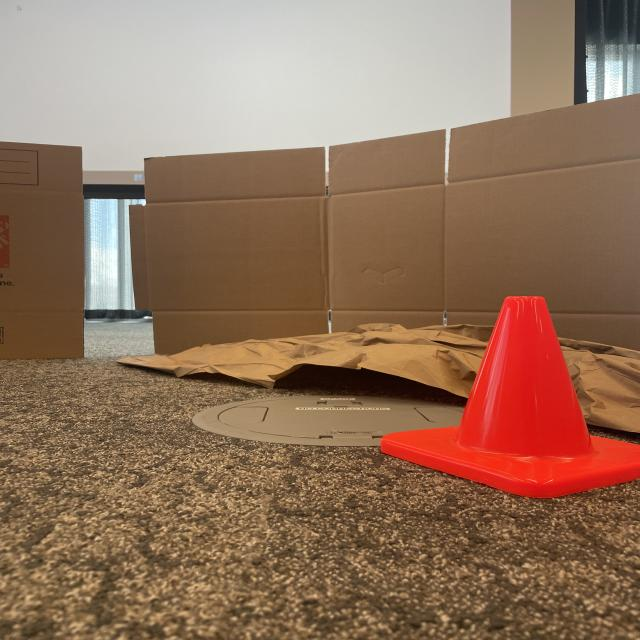Traffic Cone: (376, 296, 640, 496)
